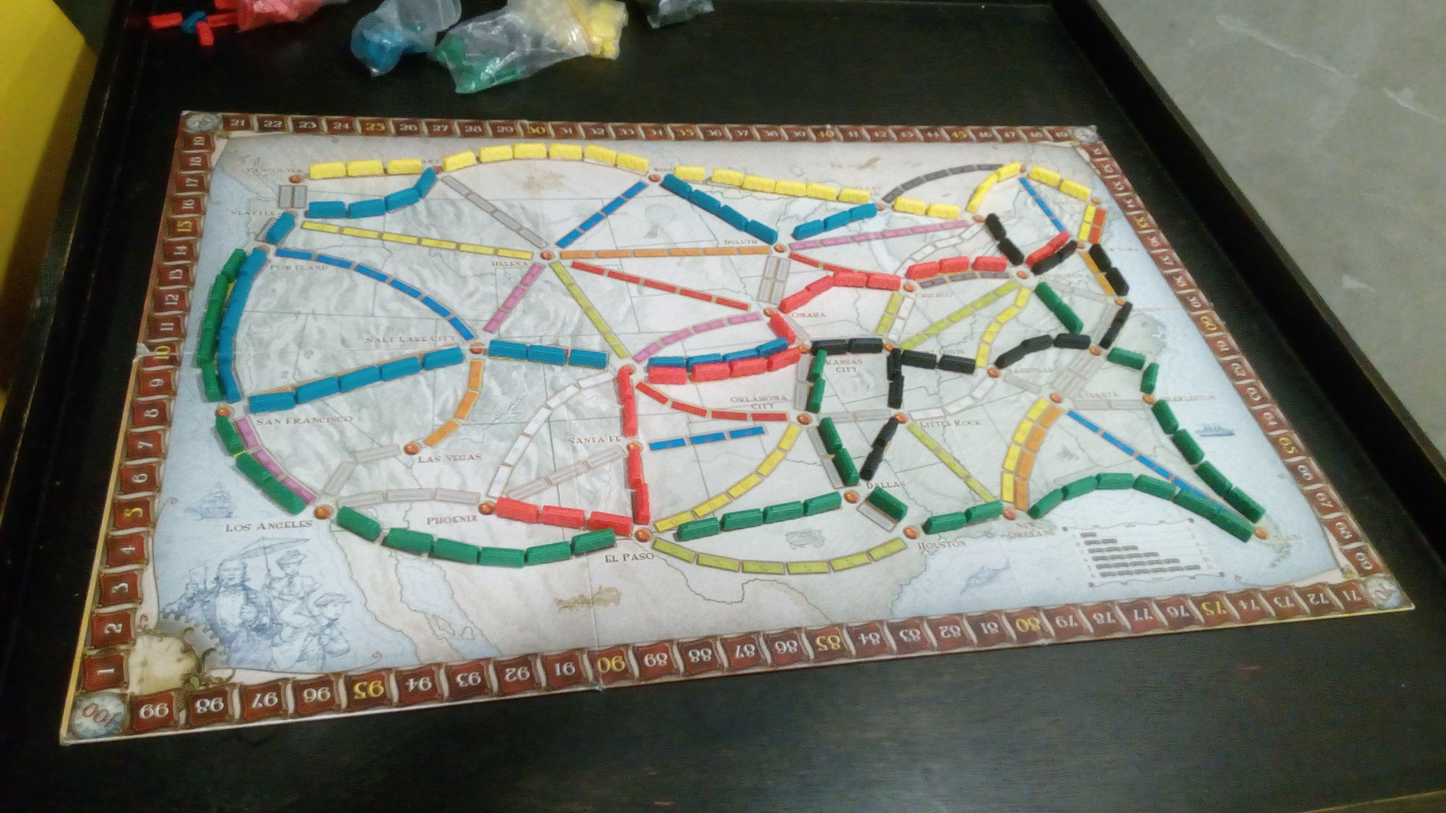corner_bl: (63, 689, 133, 744)
corner_br: (1363, 573, 1411, 610)
corner_tl: (181, 110, 219, 132)
corner_tr: (1070, 124, 1105, 144)
